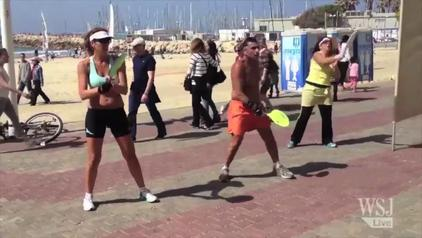stay: (186, 34, 226, 131)
walk: (125, 39, 166, 139), (25, 52, 51, 108)
